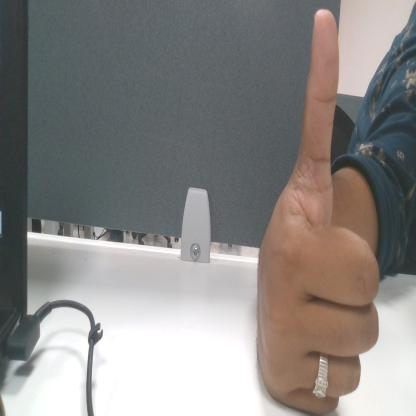Thumbs up: (254, 2, 385, 416)
